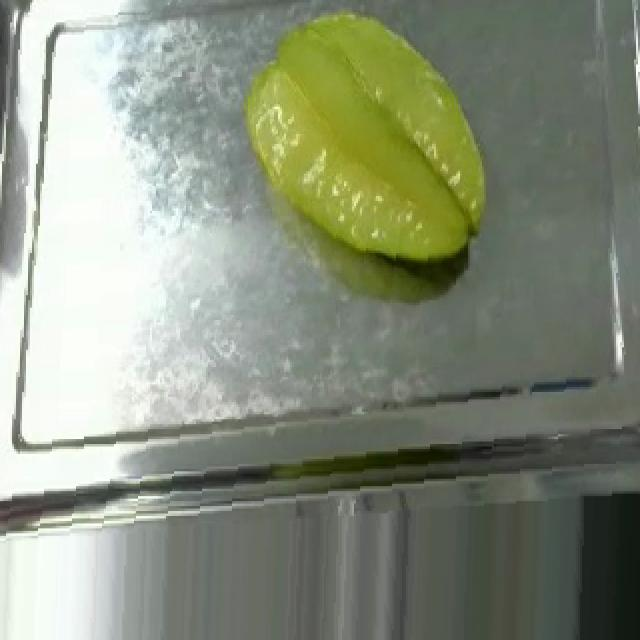fruit: (230, 2, 502, 283)
